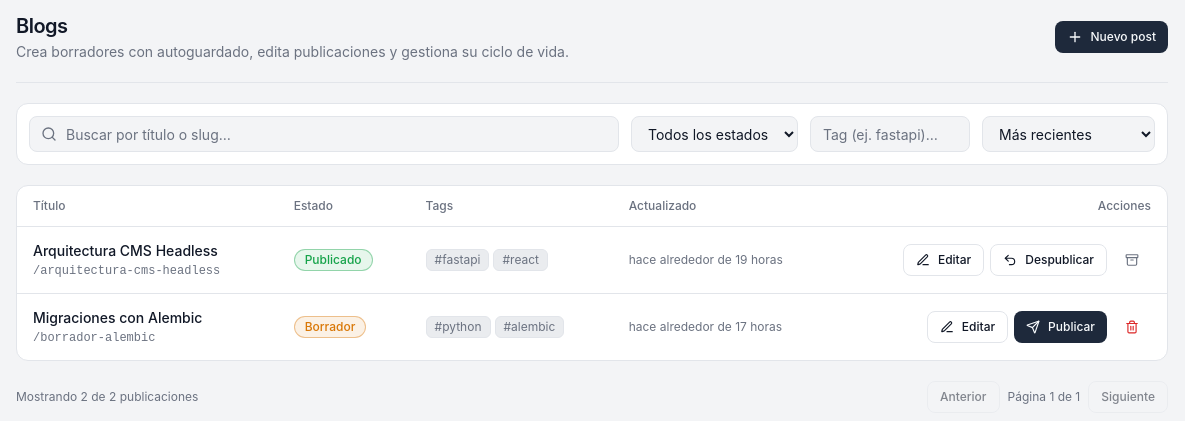
Test: PostsListPage (integración MSW) › carga publicaciones desde la API y filtra por estado
Expected: the link "Arquitectura CMS Headless" is shown, x1=33 y1=242 x2=218 y2=259
Expected: the link "Migraciones con Alembic" is shown, x1=33 y1=309 x2=202 y2=326
Step 1. Select "Borradores" in the dropdown named "filtrar por estado" → (714, 134), box x1=631 y1=116 x2=798 y2=152
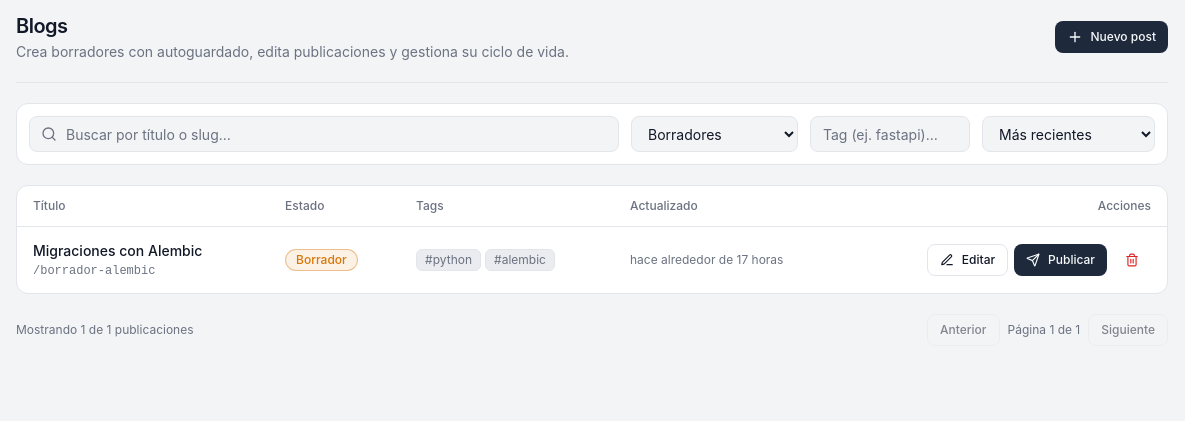
Expected: the link "Migraciones con Alembic" is shown, x1=33 y1=242 x2=202 y2=259
Result: the link "Arquitectura CMS Headless" is gone
